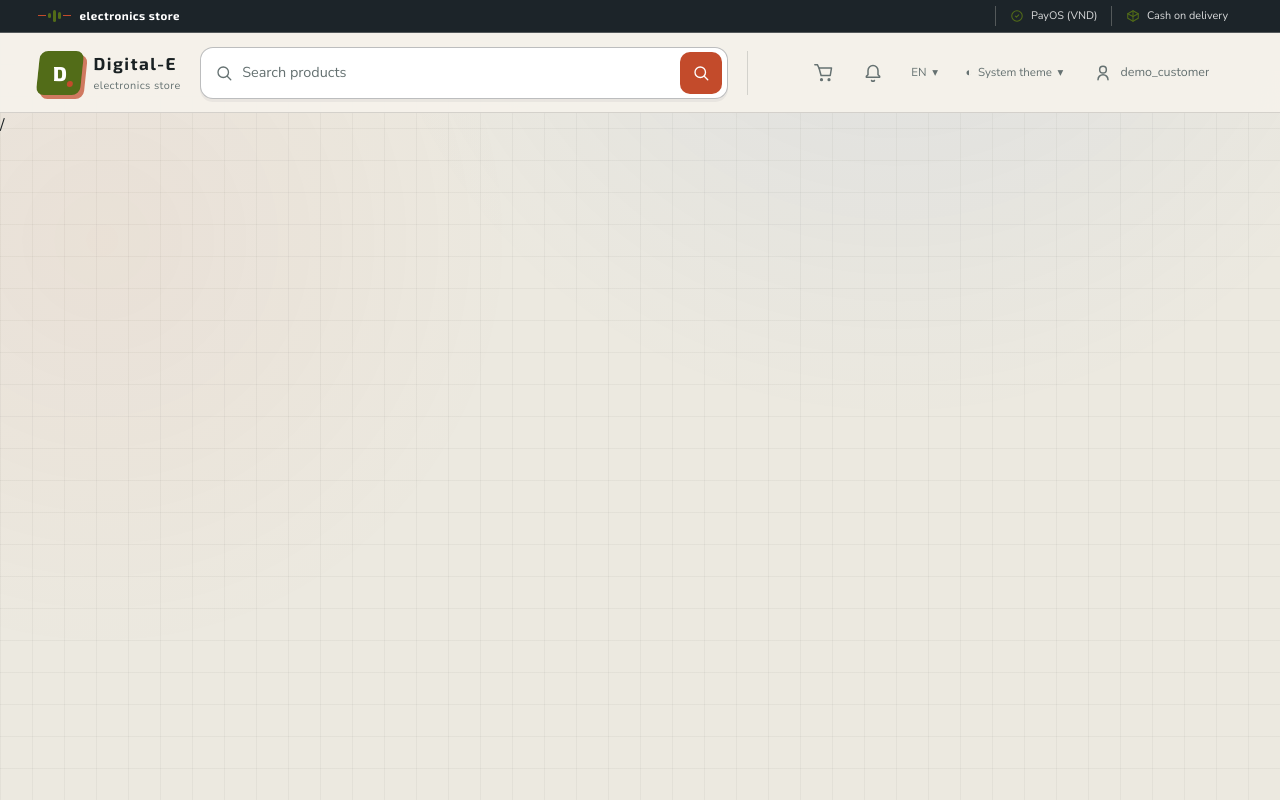
it: Header navigation controls › opens the notification preview and navigates to the full page from View all
The image size is (1280, 800).
Click the button named "Notifications" at coordinates (873, 73), box x1=851 y1=51 x2=895 y2=95
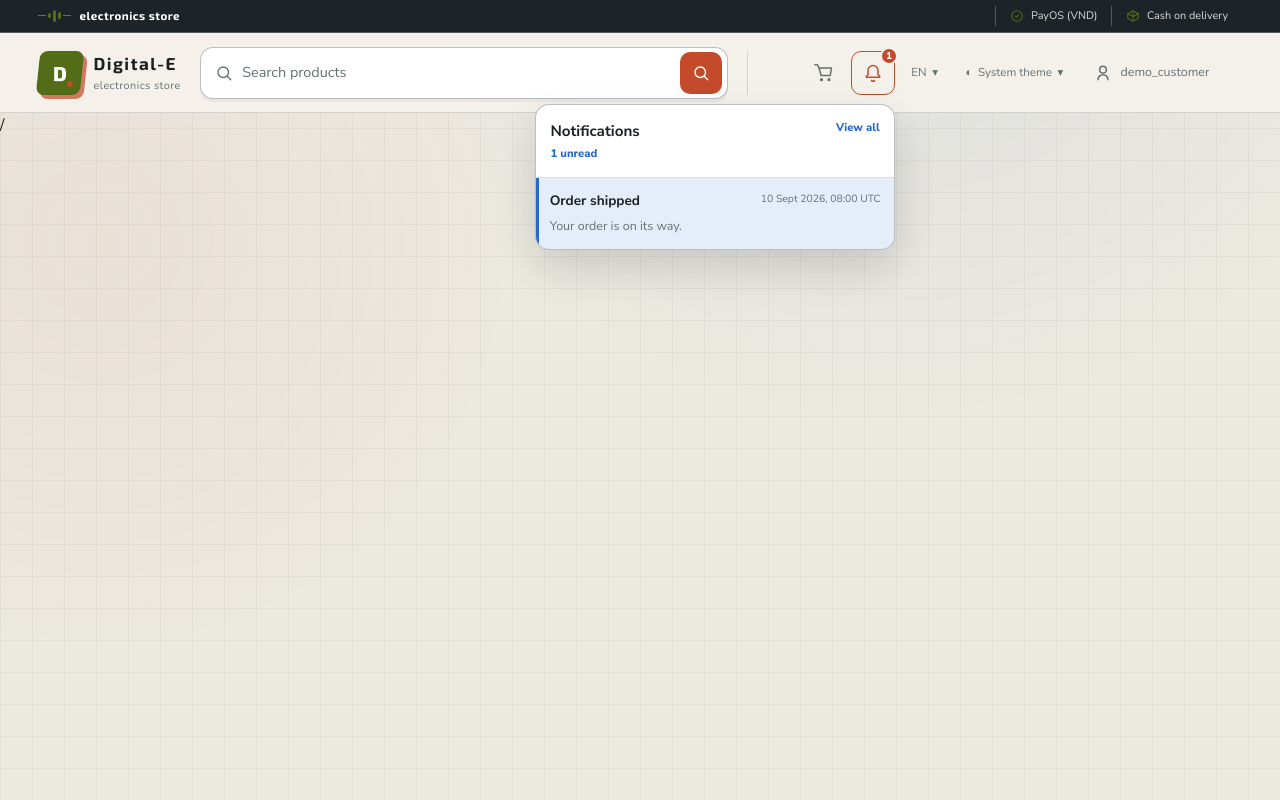
Result: the dialog "Notifications" is shown at x1=535 y1=104 x2=895 y2=250
Result: the text "Order shipped" is shown at x1=550 y1=191 x2=640 y2=212
Click the link "View all" at coordinates (858, 128), box x1=836 y1=120 x2=880 y2=136
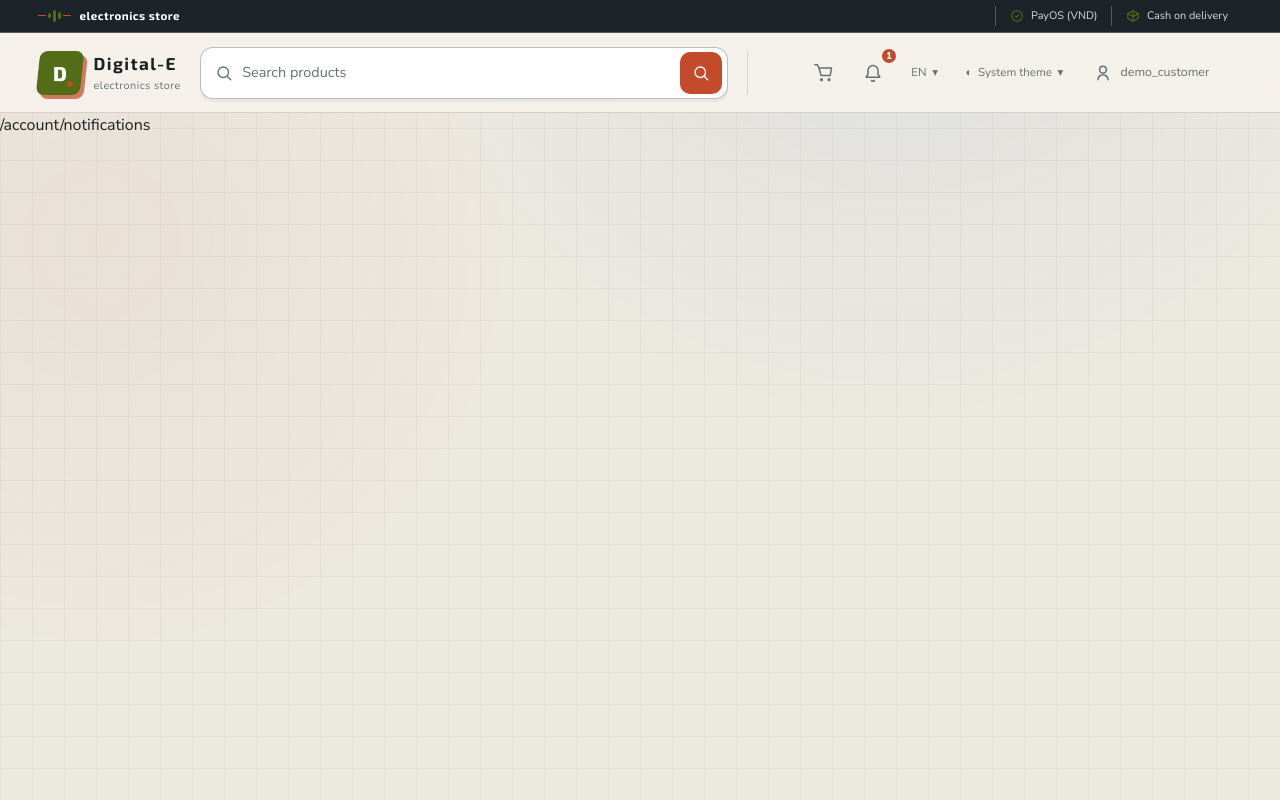
Result: the text with test id "location" reads "/account/notifications" at x1=0 y1=114 x2=150 y2=136
